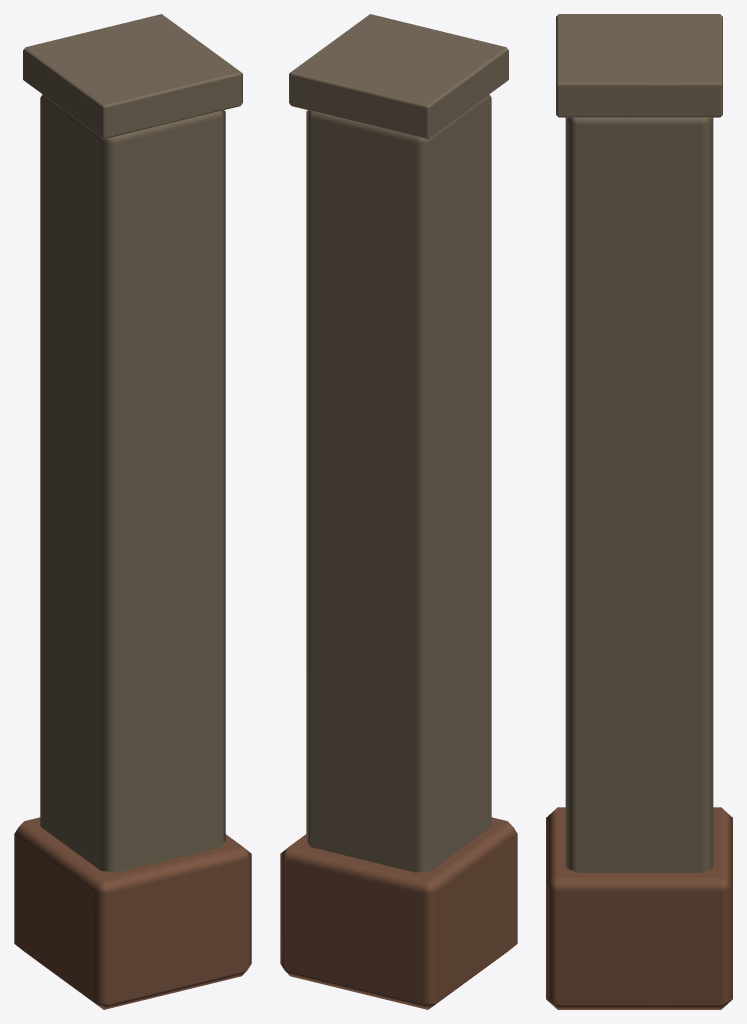
Rendered from ghost-town-post-end.20754320.glb.
The picture shows the model from 3 angles, left to right: view 1: azimuth 30°, elevation 25°; view 2: azimuth 150°, elevation 25°; view 3: azimuth 270°, elevation 25°; orthographic projection. The views are drawn at different scales.
Parts seen in each view (by area): view 1: body; view 2: body; view 3: body.
Part boxes in pixels (box(x1,y1,x2,y2)): body: box(14, 14, 251, 1009); body: box(280, 14, 517, 1009); body: box(546, 14, 732, 1009).
Size of the model in its own units: 0.38 by 2.08 by 0.38.
